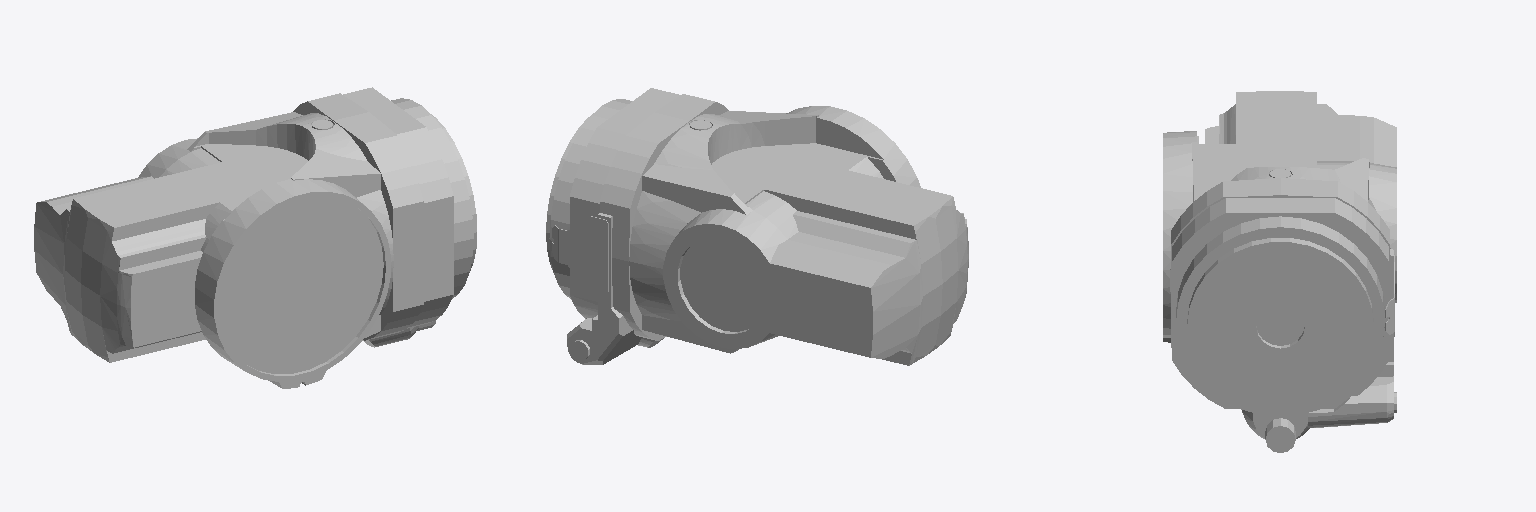
The picture shows the model from 3 angles: view 1: azimuth 30°, elevation 25°; view 2: azimuth 150°, elevation 25°; view 3: azimuth 270°, elevation 25°; orthographic projection.
Visible parts, largest first — view 1: LINK_05 rawMesh; view 2: LINK_05 rawMesh; view 3: LINK_05 rawMesh.
Part boxes in pixels (left/top/right/bottom): LINK_05 rawMesh: left=34, top=87, right=476, bottom=388; LINK_05 rawMesh: left=546, top=88, right=968, bottom=365; LINK_05 rawMesh: left=1163, top=91, right=1396, bottom=452.
Bounding box in the file's own units: 34.63 × 21.95 × 20.1.